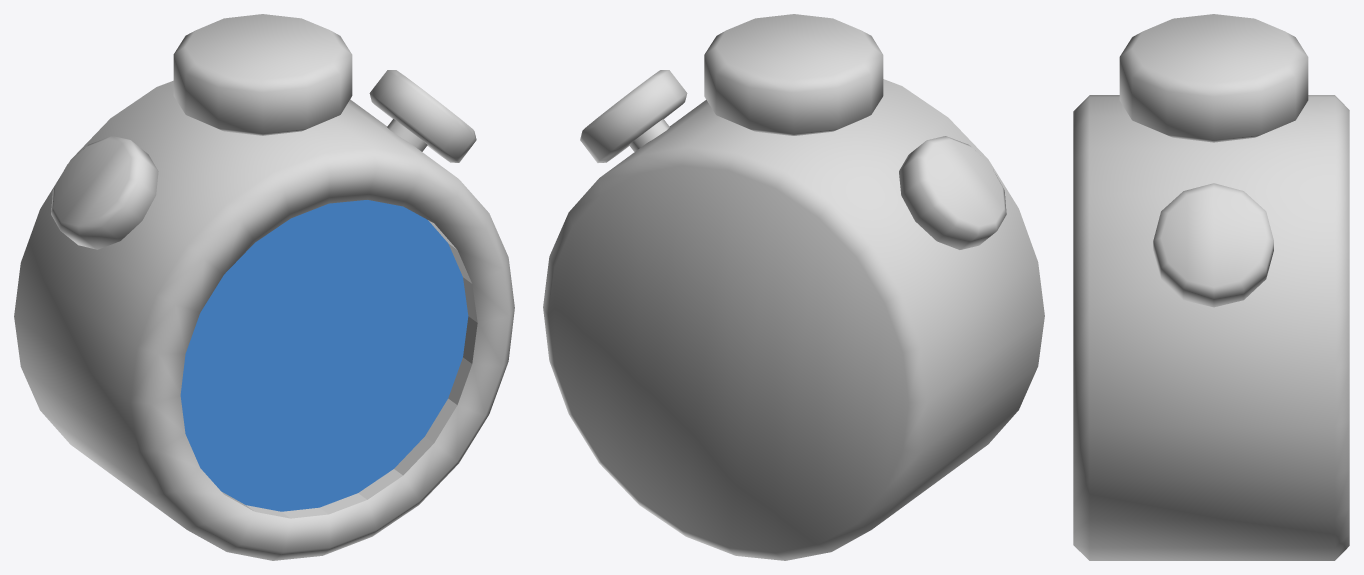
File: Clock.fbx
3 views of the same model, side by side, from view 1: azimuth 30°, elevation 25°; view 2: azimuth 150°, elevation 25°; view 3: azimuth 270°, elevation 25° (orthographic). The views are drawn at different scales.
Parts seen in each view (by area): view 1: Body, Glass; view 2: Body; view 3: Body.
Part boxes in pixels (x1=…): Body: x1=14, y1=14, x2=514, y2=560; Glass: x1=180, y1=200, x2=468, y2=511; Body: x1=543, y1=14, x2=1044, y2=560; Body: x1=1073, y1=14, x2=1349, y2=560.
Size of the model in its own units: 76.18 by 83.39 by 42.54.
